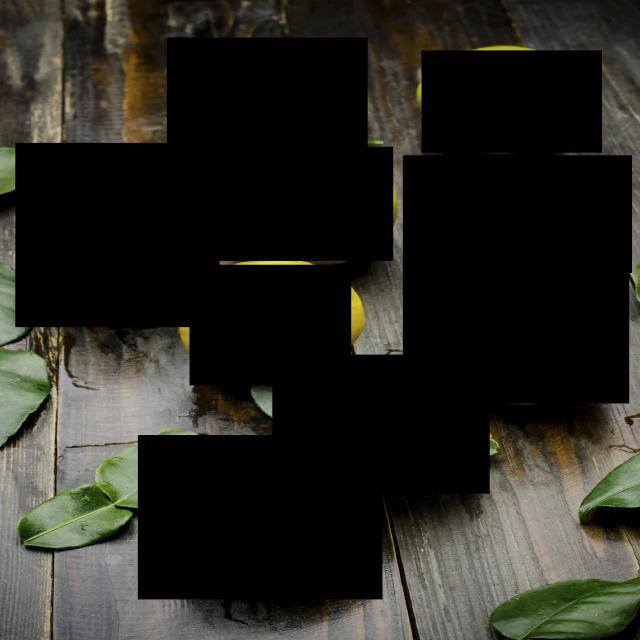Lime: (138, 435, 383, 599), (16, 143, 220, 328), (403, 266, 630, 404), (273, 355, 490, 494), (403, 156, 633, 273), (167, 38, 368, 152), (208, 147, 394, 261), (190, 264, 351, 386), (422, 50, 602, 153)
